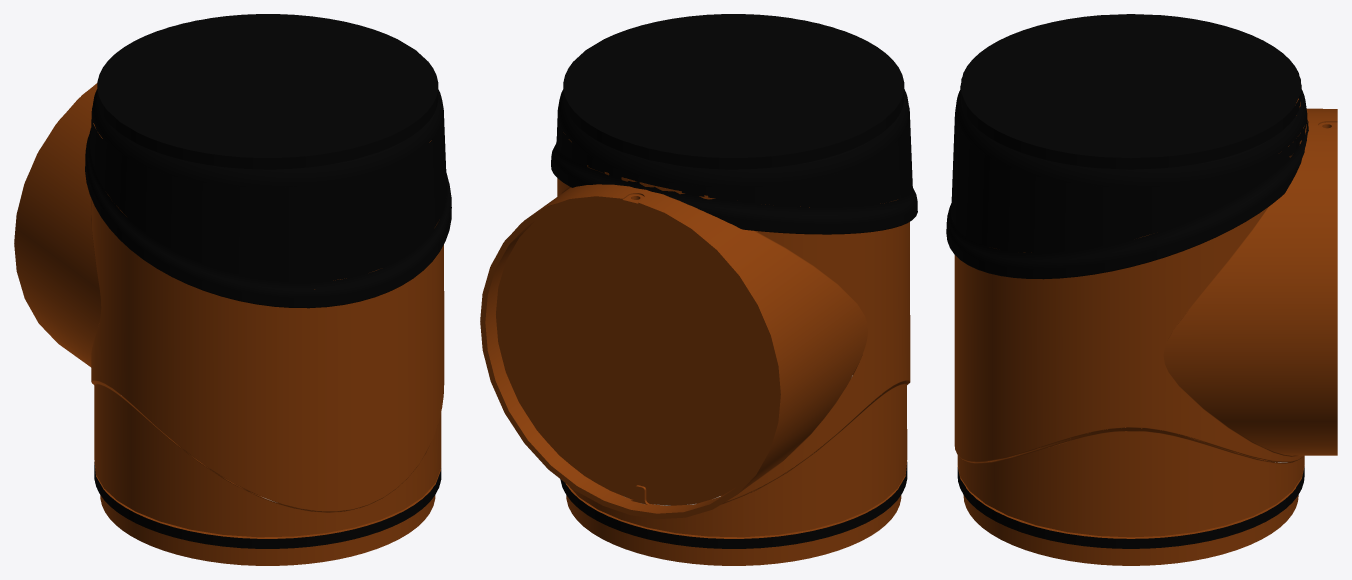
Rendered from shoulder_Link.DAE.
3 renders of one model, left to right at view 1: azimuth 30°, elevation 25°; view 2: azimuth 150°, elevation 25°; view 3: azimuth 270°, elevation 25°, orthographic.
Visible parts, largest first — view 1: NONE-DC_Shell_ncl1_1, NONE-DC_Shell_ncl1_3, NONE-DC_Shell_ncl1_2, NONE-DC_Shell; view 2: NONE-DC_Shell_ncl1_1, NONE-DC_Shell_ncl1_3, NONE-DC_Shell_ncl1_2, NONE-DC_Shell; view 3: NONE-DC_Shell_ncl1_1, NONE-DC_Shell_ncl1_3, NONE-DC_Shell_ncl1_2, NONE-DC_Shell.
Part boxes in pixels (x1=…): NONE-DC_Shell_ncl1_1: x1=14, y1=83, x2=444, y2=538; NONE-DC_Shell_ncl1_3: x1=85, y1=14, x2=451, y2=308; NONE-DC_Shell_ncl1_2: x1=100, y1=426, x2=435, y2=565; NONE-DC_Shell: x1=94, y1=462, x2=441, y2=548; NONE-DC_Shell_ncl1_1: x1=480, y1=139, x2=910, y2=538; NONE-DC_Shell_ncl1_3: x1=551, y1=14, x2=917, y2=234; NONE-DC_Shell_ncl1_2: x1=566, y1=453, x2=901, y2=565; NONE-DC_Shell: x1=560, y1=462, x2=907, y2=548; NONE-DC_Shell_ncl1_1: x1=954, y1=98, x2=1337, y2=538; NONE-DC_Shell_ncl1_3: x1=946, y1=14, x2=1308, y2=279; NONE-DC_Shell_ncl1_2: x1=963, y1=427, x2=1298, y2=565; NONE-DC_Shell: x1=957, y1=466, x2=1304, y2=548.
Bounding box in the file's own units: 0.1226 × 0.1307 × 0.1508.
